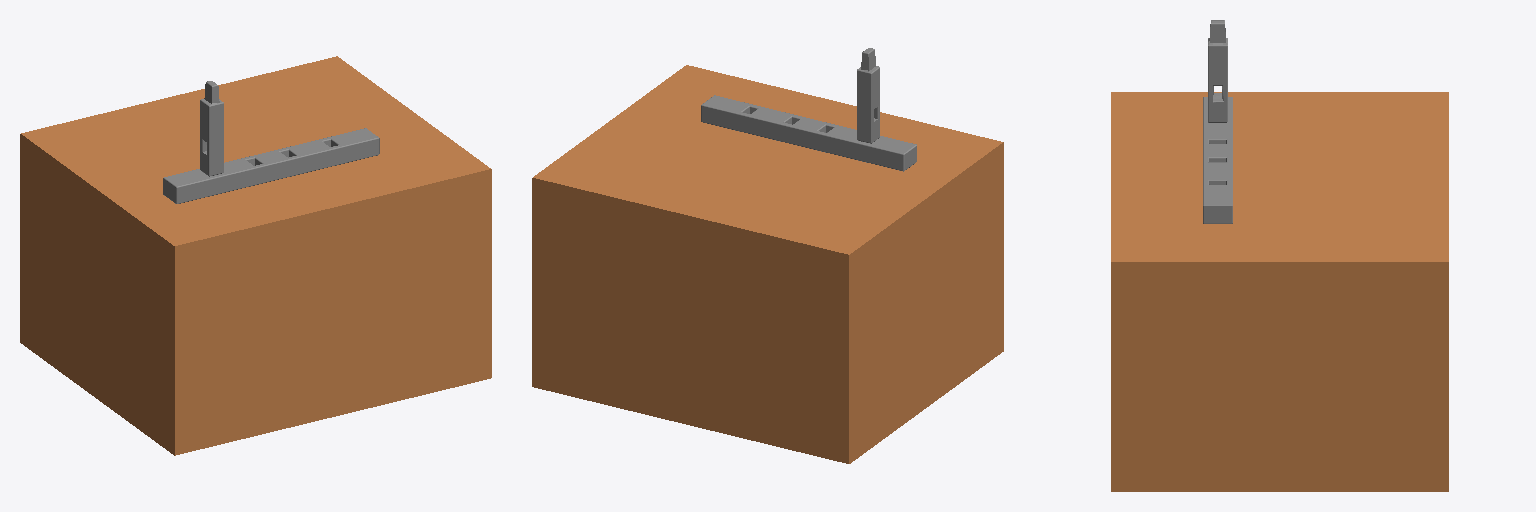
The robot description file, URDF, robot "table_beam_2x_0_scene_0018":
<?xml version="1.0"?>
<robot name="table_beam_2x_0_scene_0018">
  <link name="box">
    <visual>
      <material name="wood"><color rgba="0.82 0.56 0.35 1.0"/></material>
      <origin xyz="0 0 0"/>
      <geometry><box size="0.475 0.4 0.3"/></geometry>
    </visual>
    <collision>
      <origin xyz="0 0 0"/>
      <geometry><box size="0.475 0.4 0.3"/></geometry>
    </collision>
    <inertial>
      <mass value="500"/>
      <friction value="1.0"/>
      <inertia ixx="1000.0" ixy="0.0" ixz="0.0" iyy="1000.0" iyz="0.0" izz="1000.0"/>
    </inertial>
  </link>
  <link name="part_6_canonical">
    <visual>
      <origin xyz="0 0 0" rpy="0 0 0"/>
      <geometry><mesh filename="../../6/6_canonical.obj" scale="1 1 1"/></geometry>
      <material name="placed_0"><color rgba="0.6 0.6 0.6 1.0"/></material>
    </visual>
    <collision>
      <origin xyz="0 0 0" rpy="0 0 0"/>
      <geometry><mesh filename="../../6/6_canonical.obj" scale="1 1 1"/></geometry>
    </collision>
  </link>
  <joint name="part_6_canonical_joint" type="fixed">
    <parent link="box"/>
    <child link="part_6_canonical"/>
    <origin xyz="-0.019374 -0.073538 0.162666" rpy="0.000000 0.000000 0.000000"/>
  </joint>
  <link name="part_2_hull_0">
    <visual>
      <origin xyz="0 0 0" rpy="0 0 0"/>
      <geometry><mesh filename="../../2/coacd/decomp_0.obj" scale="1 1 1"/></geometry>
      <material name="placed_1"><color rgba="0.6 0.6 0.6 1.0"/></material>
    </visual>
    <collision>
      <origin xyz="0 0 0" rpy="0 0 0"/>
      <geometry><mesh filename="../../2/coacd/decomp_0.obj" scale="1 1 1"/></geometry>
    </collision>
  </link>
  <joint name="part_2_hull_0_joint" type="fixed">
    <parent link="box"/>
    <child link="part_2_hull_0"/>
    <origin xyz="-0.108301 -0.073538 0.225384" rpy="0.000000 -1.570796 0.000000"/>
  </joint>
  <link name="part_2_hull_1">
    <visual>
      <origin xyz="0 0 0" rpy="0 0 0"/>
      <geometry><mesh filename="../../2/coacd/decomp_1.obj" scale="1 1 1"/></geometry>
      <material name="placed_2"><color rgba="0.6 0.6 0.6 1.0"/></material>
    </visual>
    <collision>
      <origin xyz="0 0 0" rpy="0 0 0"/>
      <geometry><mesh filename="../../2/coacd/decomp_1.obj" scale="1 1 1"/></geometry>
    </collision>
  </link>
  <joint name="part_2_hull_1_joint" type="fixed">
    <parent link="box"/>
    <child link="part_2_hull_1"/>
    <origin xyz="-0.108301 -0.073538 0.225384" rpy="0.000000 -1.570796 0.000000"/>
  </joint>
  <link name="part_2_hull_2">
    <visual>
      <origin xyz="0 0 0" rpy="0 0 0"/>
      <geometry><mesh filename="../../2/coacd/decomp_10.obj" scale="1 1 1"/></geometry>
      <material name="placed_3"><color rgba="0.6 0.6 0.6 1.0"/></material>
    </visual>
    <collision>
      <origin xyz="0 0 0" rpy="0 0 0"/>
      <geometry><mesh filename="../../2/coacd/decomp_10.obj" scale="1 1 1"/></geometry>
    </collision>
  </link>
  <joint name="part_2_hull_2_joint" type="fixed">
    <parent link="box"/>
    <child link="part_2_hull_2"/>
    <origin xyz="-0.108301 -0.073538 0.225384" rpy="0.000000 -1.570796 0.000000"/>
  </joint>
  <link name="part_2_hull_3">
    <visual>
      <origin xyz="0 0 0" rpy="0 0 0"/>
      <geometry><mesh filename="../../2/coacd/decomp_11.obj" scale="1 1 1"/></geometry>
      <material name="placed_4"><color rgba="0.6 0.6 0.6 1.0"/></material>
    </visual>
    <collision>
      <origin xyz="0 0 0" rpy="0 0 0"/>
      <geometry><mesh filename="../../2/coacd/decomp_11.obj" scale="1 1 1"/></geometry>
    </collision>
  </link>
  <joint name="part_2_hull_3_joint" type="fixed">
    <parent link="box"/>
    <child link="part_2_hull_3"/>
    <origin xyz="-0.108301 -0.073538 0.225384" rpy="0.000000 -1.570796 0.000000"/>
  </joint>
  <link name="part_2_hull_4">
    <visual>
      <origin xyz="0 0 0" rpy="0 0 0"/>
      <geometry><mesh filename="../../2/coacd/decomp_12.obj" scale="1 1 1"/></geometry>
      <material name="placed_5"><color rgba="0.6 0.6 0.6 1.0"/></material>
    </visual>
    <collision>
      <origin xyz="0 0 0" rpy="0 0 0"/>
      <geometry><mesh filename="../../2/coacd/decomp_12.obj" scale="1 1 1"/></geometry>
    </collision>
  </link>
  <joint name="part_2_hull_4_joint" type="fixed">
    <parent link="box"/>
    <child link="part_2_hull_4"/>
    <origin xyz="-0.108301 -0.073538 0.225384" rpy="0.000000 -1.570796 0.000000"/>
  </joint>
  <link name="part_2_hull_5">
    <visual>
      <origin xyz="0 0 0" rpy="0 0 0"/>
      <geometry><mesh filename="../../2/coacd/decomp_13.obj" scale="1 1 1"/></geometry>
      <material name="placed_6"><color rgba="0.6 0.6 0.6 1.0"/></material>
    </visual>
    <collision>
      <origin xyz="0 0 0" rpy="0 0 0"/>
      <geometry><mesh filename="../../2/coacd/decomp_13.obj" scale="1 1 1"/></geometry>
    </collision>
  </link>
  <joint name="part_2_hull_5_joint" type="fixed">
    <parent link="box"/>
    <child link="part_2_hull_5"/>
    <origin xyz="-0.108301 -0.073538 0.225384" rpy="0.000000 -1.570796 0.000000"/>
  </joint>
  <link name="part_2_hull_6">
    <visual>
      <origin xyz="0 0 0" rpy="0 0 0"/>
      <geometry><mesh filename="../../2/coacd/decomp_14.obj" scale="1 1 1"/></geometry>
      <material name="placed_7"><color rgba="0.6 0.6 0.6 1.0"/></material>
    </visual>
    <collision>
      <origin xyz="0 0 0" rpy="0 0 0"/>
      <geometry><mesh filename="../../2/coacd/decomp_14.obj" scale="1 1 1"/></geometry>
    </collision>
  </link>
  <joint name="part_2_hull_6_joint" type="fixed">
    <parent link="box"/>
    <child link="part_2_hull_6"/>
    <origin xyz="-0.108301 -0.073538 0.225384" rpy="0.000000 -1.570796 0.000000"/>
  </joint>
  <link name="part_2_hull_7">
    <visual>
      <origin xyz="0 0 0" rpy="0 0 0"/>
      <geometry><mesh filename="../../2/coacd/decomp_15.obj" scale="1 1 1"/></geometry>
      <material name="placed_8"><color rgba="0.6 0.6 0.6 1.0"/></material>
    </visual>
    <collision>
      <origin xyz="0 0 0" rpy="0 0 0"/>
      <geometry><mesh filename="../../2/coacd/decomp_15.obj" scale="1 1 1"/></geometry>
    </collision>
  </link>
  <joint name="part_2_hull_7_joint" type="fixed">
    <parent link="box"/>
    <child link="part_2_hull_7"/>
    <origin xyz="-0.108301 -0.073538 0.225384" rpy="0.000000 -1.570796 0.000000"/>
  </joint>
  <link name="part_2_hull_8">
    <visual>
      <origin xyz="0 0 0" rpy="0 0 0"/>
      <geometry><mesh filename="../../2/coacd/decomp_2.obj" scale="1 1 1"/></geometry>
      <material name="placed_9"><color rgba="0.6 0.6 0.6 1.0"/></material>
    </visual>
    <collision>
      <origin xyz="0 0 0" rpy="0 0 0"/>
      <geometry><mesh filename="../../2/coacd/decomp_2.obj" scale="1 1 1"/></geometry>
    </collision>
  </link>
  <joint name="part_2_hull_8_joint" type="fixed">
    <parent link="box"/>
    <child link="part_2_hull_8"/>
    <origin xyz="-0.108301 -0.073538 0.225384" rpy="0.000000 -1.570796 0.000000"/>
  </joint>
  <link name="part_2_hull_9">
    <visual>
      <origin xyz="0 0 0" rpy="0 0 0"/>
      <geometry><mesh filename="../../2/coacd/decomp_3.obj" scale="1 1 1"/></geometry>
      <material name="placed_10"><color rgba="0.6 0.6 0.6 1.0"/></material>
    </visual>
    <collision>
      <origin xyz="0 0 0" rpy="0 0 0"/>
      <geometry><mesh filename="../../2/coacd/decomp_3.obj" scale="1 1 1"/></geometry>
    </collision>
  </link>
  <joint name="part_2_hull_9_joint" type="fixed">
    <parent link="box"/>
    <child link="part_2_hull_9"/>
    <origin xyz="-0.108301 -0.073538 0.225384" rpy="0.000000 -1.570796 0.000000"/>
  </joint>
  <link name="part_2_hull_10">
    <visual>
      <origin xyz="0 0 0" rpy="0 0 0"/>
      <geometry><mesh filename="../../2/coacd/decomp_4.obj" scale="1 1 1"/></geometry>
      <material name="placed_11"><color rgba="0.6 0.6 0.6 1.0"/></material>
    </visual>
    <collision>
      <origin xyz="0 0 0" rpy="0 0 0"/>
      <geometry><mesh filename="../../2/coacd/decomp_4.obj" scale="1 1 1"/></geometry>
    </collision>
  </link>
  <joint name="part_2_hull_10_joint" type="fixed">
    <parent link="box"/>
    <child link="part_2_hull_10"/>
    <origin xyz="-0.108301 -0.073538 0.225384" rpy="0.000000 -1.570796 0.000000"/>
  </joint>
  <link name="part_2_hull_11">
    <visual>
      <origin xyz="0 0 0" rpy="0 0 0"/>
      <geometry><mesh filename="../../2/coacd/decomp_5.obj" scale="1 1 1"/></geometry>
      <material name="placed_12"><color rgba="0.6 0.6 0.6 1.0"/></material>
    </visual>
    <collision>
      <origin xyz="0 0 0" rpy="0 0 0"/>
      <geometry><mesh filename="../../2/coacd/decomp_5.obj" scale="1 1 1"/></geometry>
    </collision>
  </link>
  <joint name="part_2_hull_11_joint" type="fixed">
    <parent link="box"/>
    <child link="part_2_hull_11"/>
    <origin xyz="-0.108301 -0.073538 0.225384" rpy="0.000000 -1.570796 0.000000"/>
  </joint>
  <link name="part_2_hull_12">
    <visual>
      <origin xyz="0 0 0" rpy="0 0 0"/>
      <geometry><mesh filename="../../2/coacd/decomp_6.obj" scale="1 1 1"/></geometry>
      <material name="placed_13"><color rgba="0.6 0.6 0.6 1.0"/></material>
    </visual>
    <collision>
      <origin xyz="0 0 0" rpy="0 0 0"/>
      <geometry><mesh filename="../../2/coacd/decomp_6.obj" scale="1 1 1"/></geometry>
    </collision>
  </link>
  <joint name="part_2_hull_12_joint" type="fixed">
    <parent link="box"/>
    <child link="part_2_hull_12"/>
    <origin xyz="-0.108301 -0.073538 0.225384" rpy="0.000000 -1.570796 0.000000"/>
  </joint>
  <link name="part_2_hull_13">
    <visual>
      <origin xyz="0 0 0" rpy="0 0 0"/>
      <geometry><mesh filename="../../2/coacd/decomp_7.obj" scale="1 1 1"/></geometry>
      <material name="placed_14"><color rgba="0.6 0.6 0.6 1.0"/></material>
    </visual>
    <collision>
      <origin xyz="0 0 0" rpy="0 0 0"/>
      <geometry><mesh filename="../../2/coacd/decomp_7.obj" scale="1 1 1"/></geometry>
    </collision>
  </link>
  <joint name="part_2_hull_13_joint" type="fixed">
    <parent link="box"/>
    <child link="part_2_hull_13"/>
    <origin xyz="-0.108301 -0.073538 0.225384" rpy="0.000000 -1.570796 0.000000"/>
  </joint>
  <link name="part_2_hull_14">
    <visual>
      <origin xyz="0 0 0" rpy="0 0 0"/>
      <geometry><mesh filename="../../2/coacd/decomp_8.obj" scale="1 1 1"/></geometry>
      <material name="placed_15"><color rgba="0.6 0.6 0.6 1.0"/></material>
    </visual>
    <collision>
      <origin xyz="0 0 0" rpy="0 0 0"/>
      <geometry><mesh filename="../../2/coacd/decomp_8.obj" scale="1 1 1"/></geometry>
    </collision>
  </link>
  <joint name="part_2_hull_14_joint" type="fixed">
    <parent link="box"/>
    <child link="part_2_hull_14"/>
    <origin xyz="-0.108301 -0.073538 0.225384" rpy="0.000000 -1.570796 0.000000"/>
  </joint>
  <link name="part_2_hull_15">
    <visual>
      <origin xyz="0 0 0" rpy="0 0 0"/>
      <geometry><mesh filename="../../2/coacd/decomp_9.obj" scale="1 1 1"/></geometry>
      <material name="placed_16"><color rgba="0.6 0.6 0.6 1.0"/></material>
    </visual>
    <collision>
      <origin xyz="0 0 0" rpy="0 0 0"/>
      <geometry><mesh filename="../../2/coacd/decomp_9.obj" scale="1 1 1"/></geometry>
    </collision>
  </link>
  <joint name="part_2_hull_15_joint" type="fixed">
    <parent link="box"/>
    <child link="part_2_hull_15"/>
    <origin xyz="-0.108301 -0.073538 0.225384" rpy="0.000000 -1.570796 0.000000"/>
  </joint>
</robot>

--- What the picture shows (computed from the rendered views, not written in the file) ---
The picture shows the robot from 3 angles, left to right: view 1: azimuth 30°, elevation 25°; view 2: azimuth 150°, elevation 25°; view 3: azimuth 270°, elevation 25°; orthographic projection.
Model table_beam_2x_0_scene_0018 with 18 links and 17 joints (17 fixed), rooted at box, posed all joints at 0.
Links seen in each view (by area): view 1: box, part_6_canonical, part_2_hull_1; view 2: box, part_6_canonical; view 3: box, part_6_canonical.
Link boxes in pixels (x1=…): box: x1=20, y1=56, x2=491, y2=455; part_6_canonical: x1=163, y1=128, x2=379, y2=203; part_2_hull_1: x1=200, y1=99, x2=212, y2=143; box: x1=532, y1=65, x2=1003, y2=463; part_6_canonical: x1=701, y1=95, x2=916, y2=171; box: x1=1111, y1=92, x2=1448, y2=491; part_6_canonical: x1=1203, y1=97, x2=1232, y2=223.
Size in the robot's own frame: 0.475 by 0.4 by 0.4524 metres.
17 mesh visuals loaded from 17 distinct referenced files (17 OBJ).
